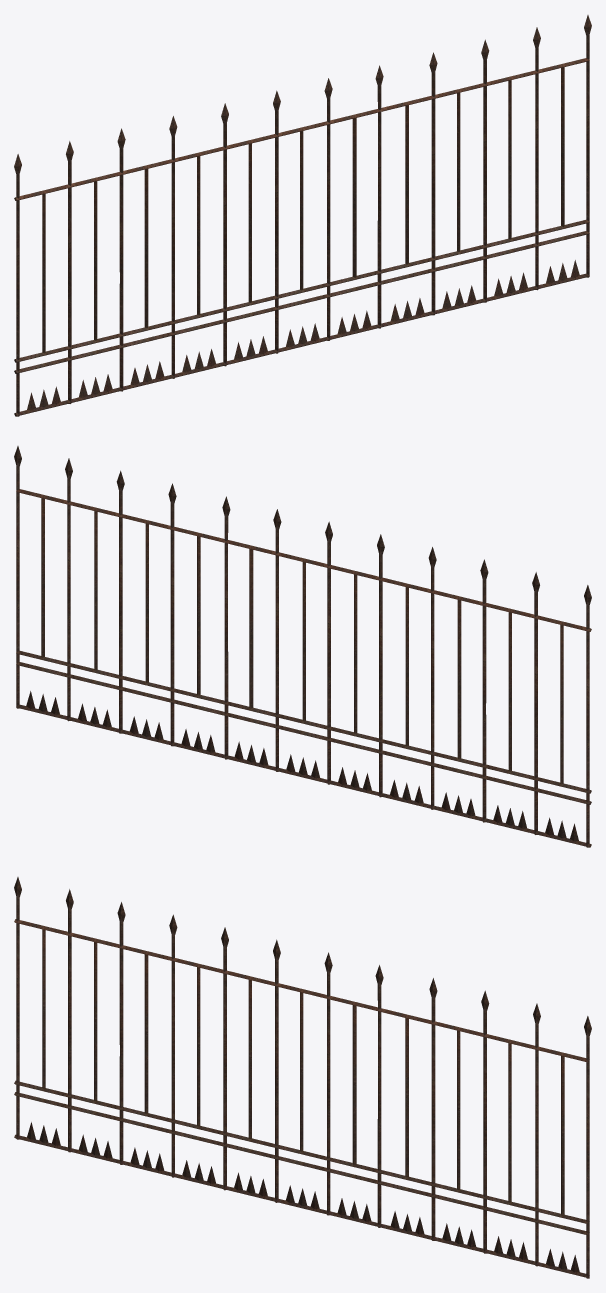
File: fence.dae
3 renders of one model, top to bottom at view 1: azimuth 30°, elevation 25°; view 2: azimuth 150°, elevation 25°; view 3: azimuth 330°, elevation 25°, orthographic.
Parts seen in each view (by area): view 1: Default_Layer; view 2: Default_Layer; view 3: Default_Layer.
Boxes of the visible parts, bbox=[...] form: Default_Layer: bbox=[14, 15, 591, 416]; Default_Layer: bbox=[14, 446, 591, 847]; Default_Layer: bbox=[14, 877, 591, 1278].
Size of the model in its own units: 2.66 by 1.16 by 0.0223.
